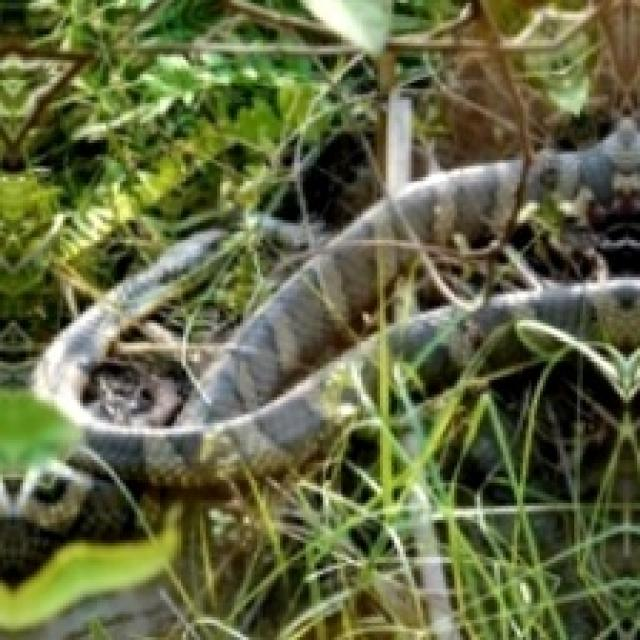king cobra: (31, 120, 637, 637), (31, 123, 637, 637)
